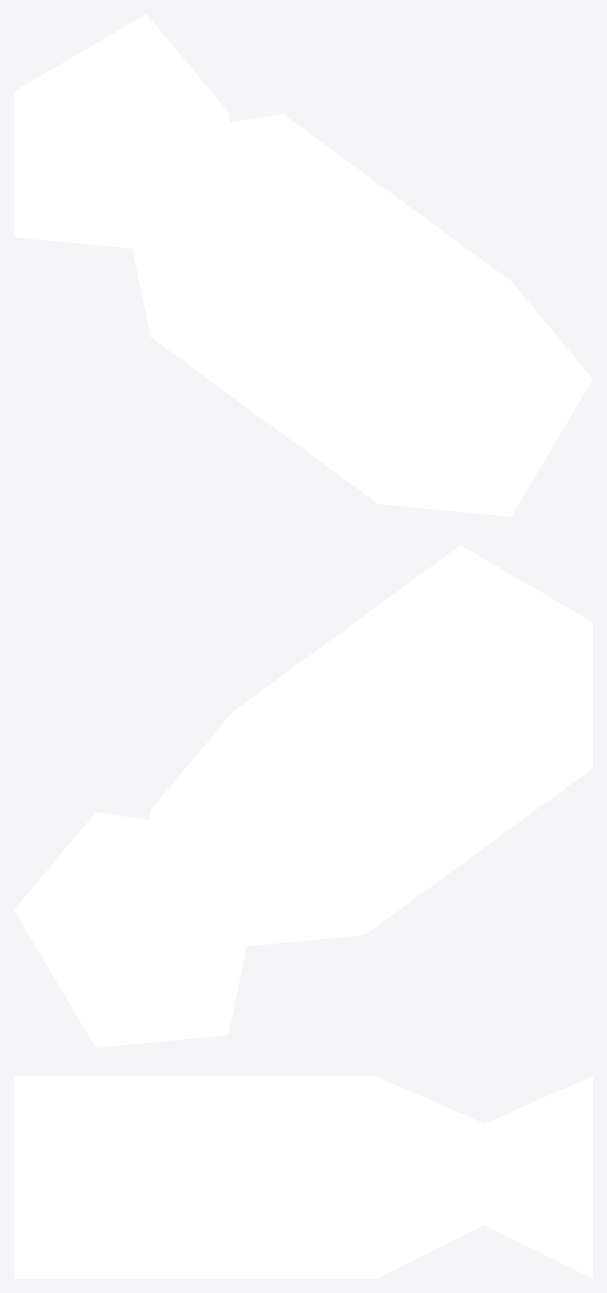
File: SM_Crystal_Corridor.glb
3 renders of one model, top to bottom at view 1: azimuth 30°, elevation 25°; view 2: azimuth 150°, elevation 25°; view 3: azimuth 270°, elevation 25°, orthographic. The views are drawn at different scales.
Parts seen in each view (by area): view 1: asset_crystal_corridor; view 2: asset_crystal_corridor; view 3: asset_crystal_corridor.
Part boxes in pixels (box(x1,y1,x2,y2)): asset_crystal_corridor: box(14, 14, 592, 516); asset_crystal_corridor: box(14, 545, 592, 1047); asset_crystal_corridor: box(14, 1076, 592, 1278).
Bounding box in the file's own units: 0.1085 × 0.1141 × 0.32.
Materials: 1 (1 with a texture image).
